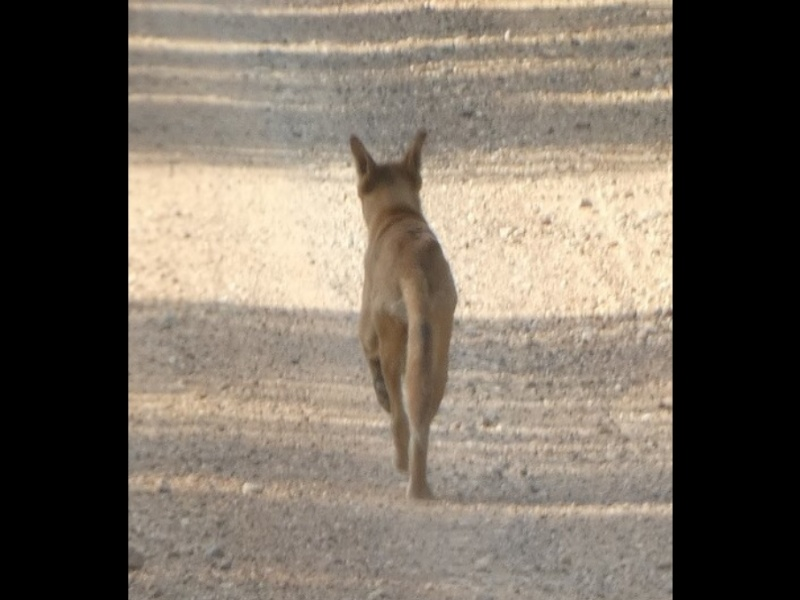dog: (341, 124, 462, 508)
